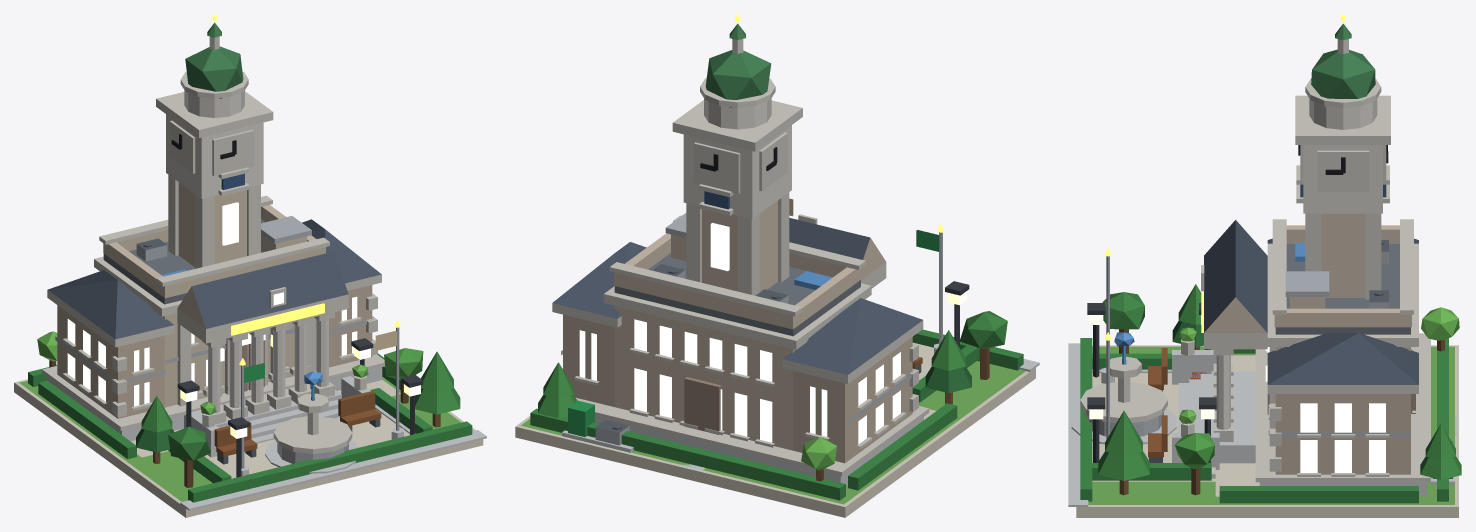
3 renders of one model, left to right at view 1: azimuth 30°, elevation 25°; view 2: azimuth 150°, elevation 25°; view 3: azimuth 270°, elevation 25°, orthographic. The views are drawn at different scales.
Visible parts, largest first — view 1: b21_v2; view 2: b21_v2; view 3: b21_v2.
Boxes of the visible parts, <box> form: b21_v2: <box>14,14,486,517</box>; b21_v2: <box>515,14,1039,517</box>; b21_v2: <box>1068,14,1461,517</box>.
Size of the model in its own units: 0.96 by 1.17 by 0.987.
